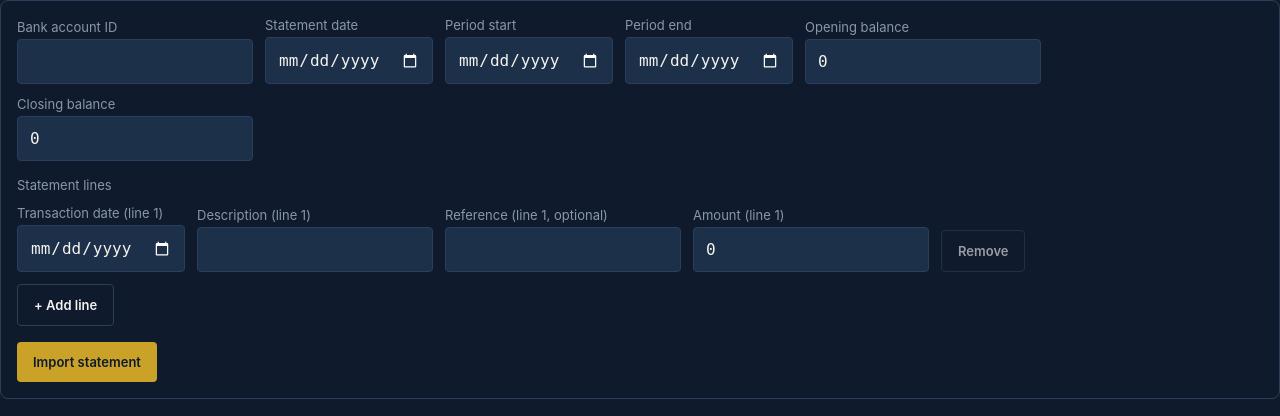
ImportStatementForm › shows an error message when the action fails
In the field labelled "Bank account ID": {"x": 135, "y": 62} [17,39,253,84], type "ba-1"
In the date field labelled "Statement date": {"x": 349, "y": 60} [265,37,433,84], type "2026-07-31"
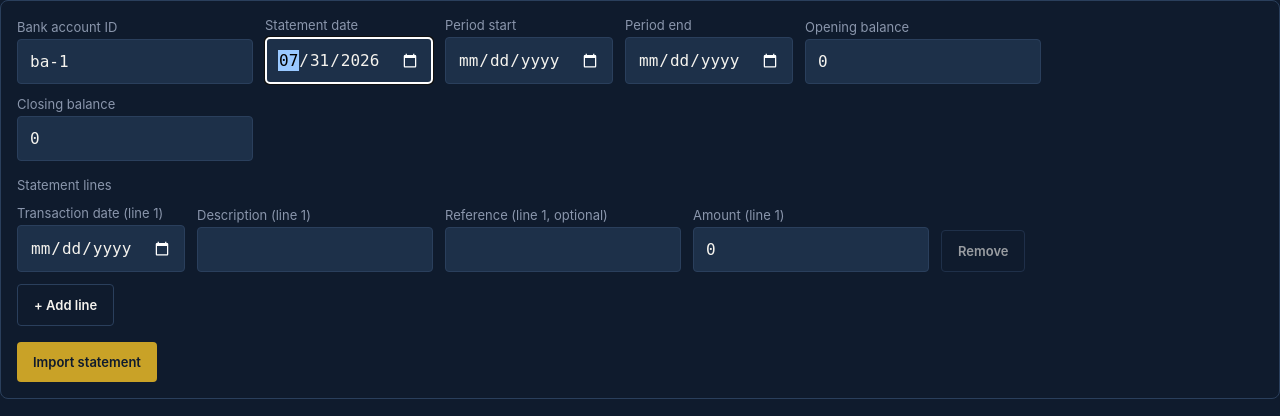
In the date field labelled "Period start": {"x": 529, "y": 60} [445,37,613,84], type "2026-07-01"
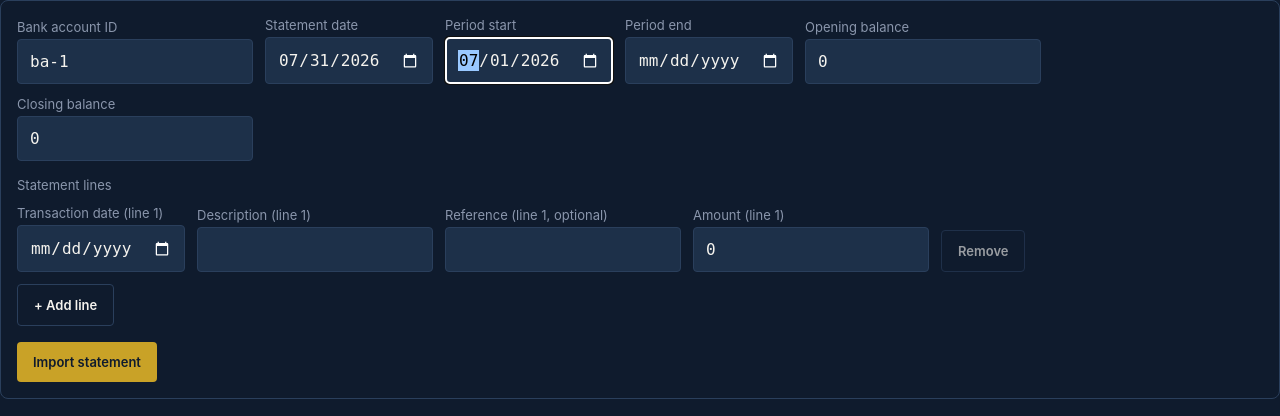
In the date field labelled "Period end": {"x": 709, "y": 60} [625,37,793,84], type "2026-07-31"
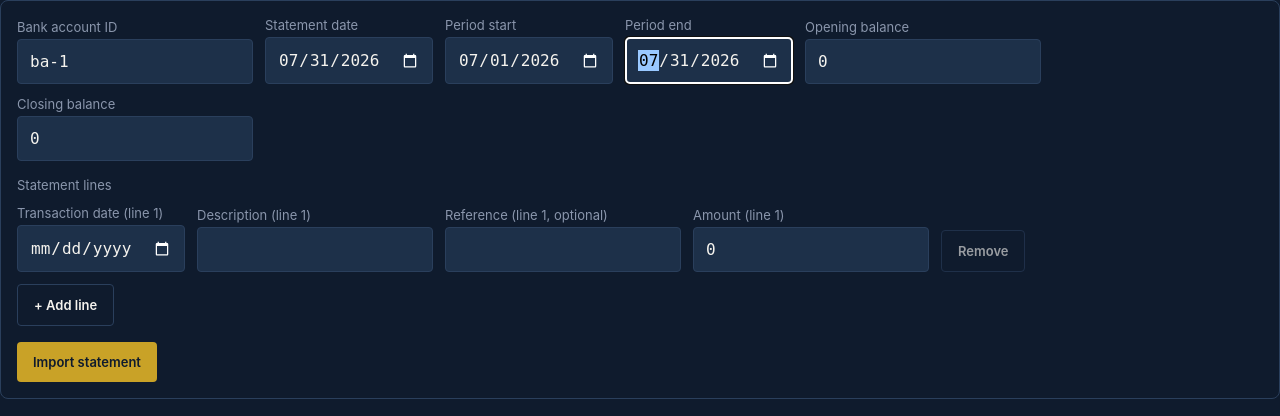
In the date field labelled "Transaction date (line 1)": {"x": 101, "y": 248} [17,225,185,272], type "2026-07-15"
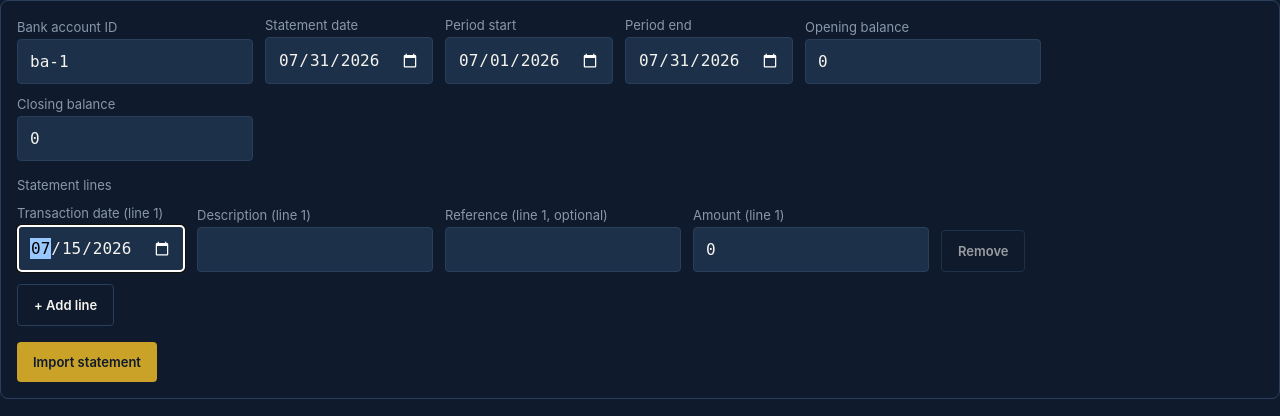
In the field labelled "Description (line 1)": {"x": 315, "y": 250} [197,227,433,272], type "Wire in"
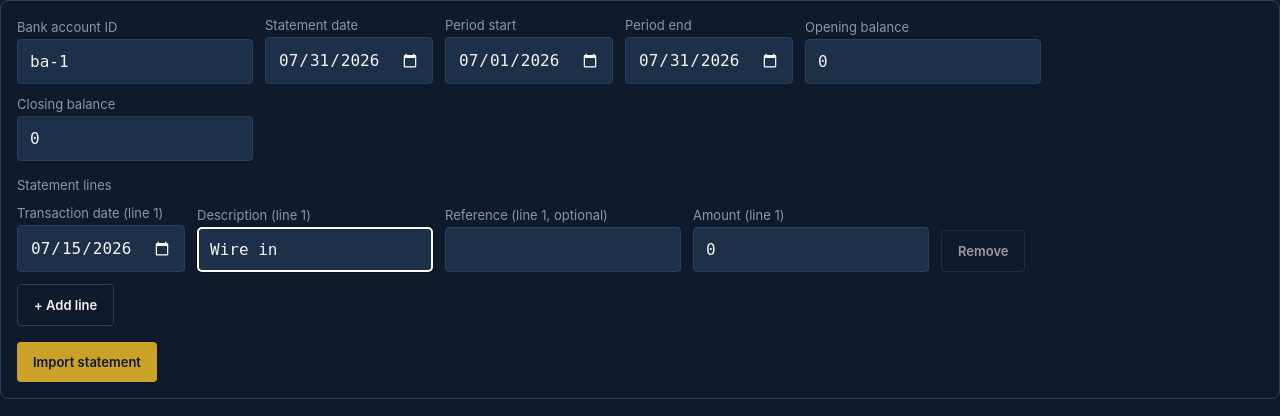
Click the button "Import statement": {"x": 87, "y": 362} [17,342,157,382]
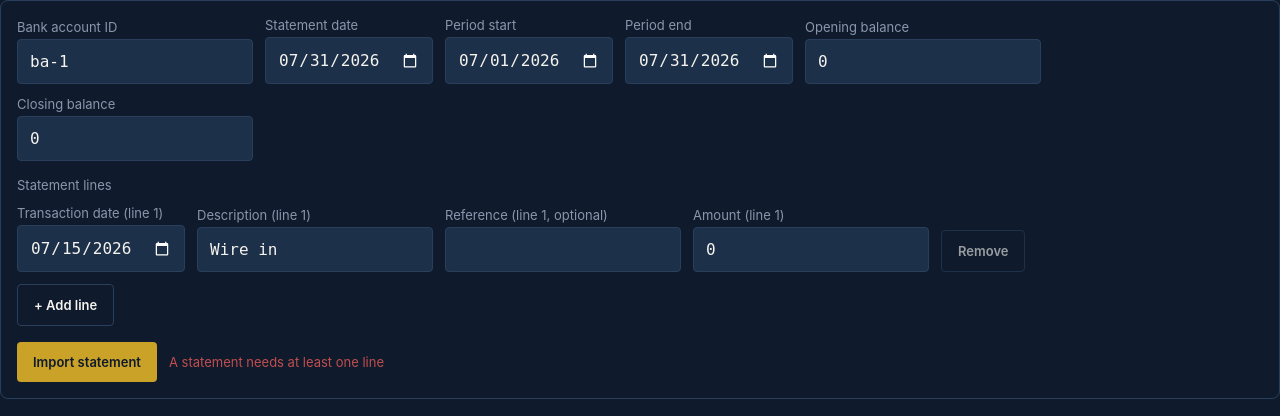
Expected: the text "A statement needs at least one line" is shown, [169,354,384,370]
